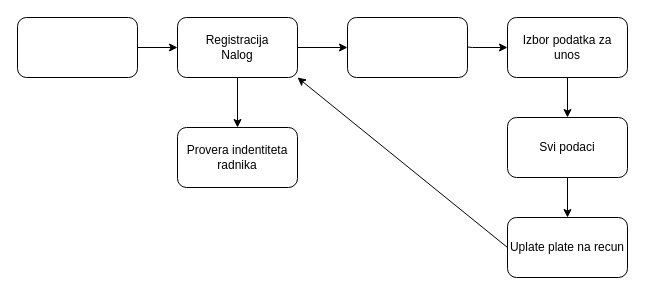
The diagram is 645 pixels wide and 295 high, and some of its shapes have lost their labels. Each missing label, with the centre of its shape:
Korisnik: [77,47]
Radna smena: [407,47]
